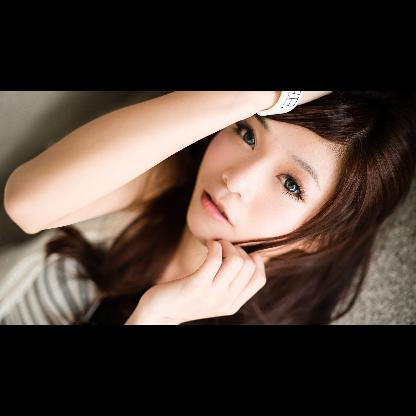Female: (188, 113, 340, 256)
